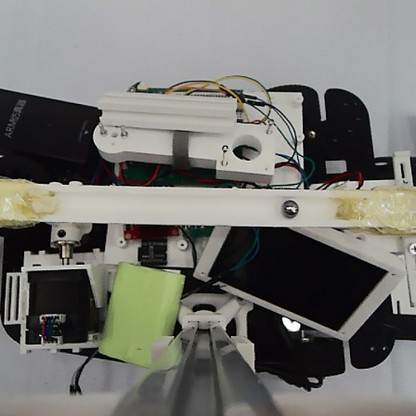ironball: (279, 197, 299, 219)
